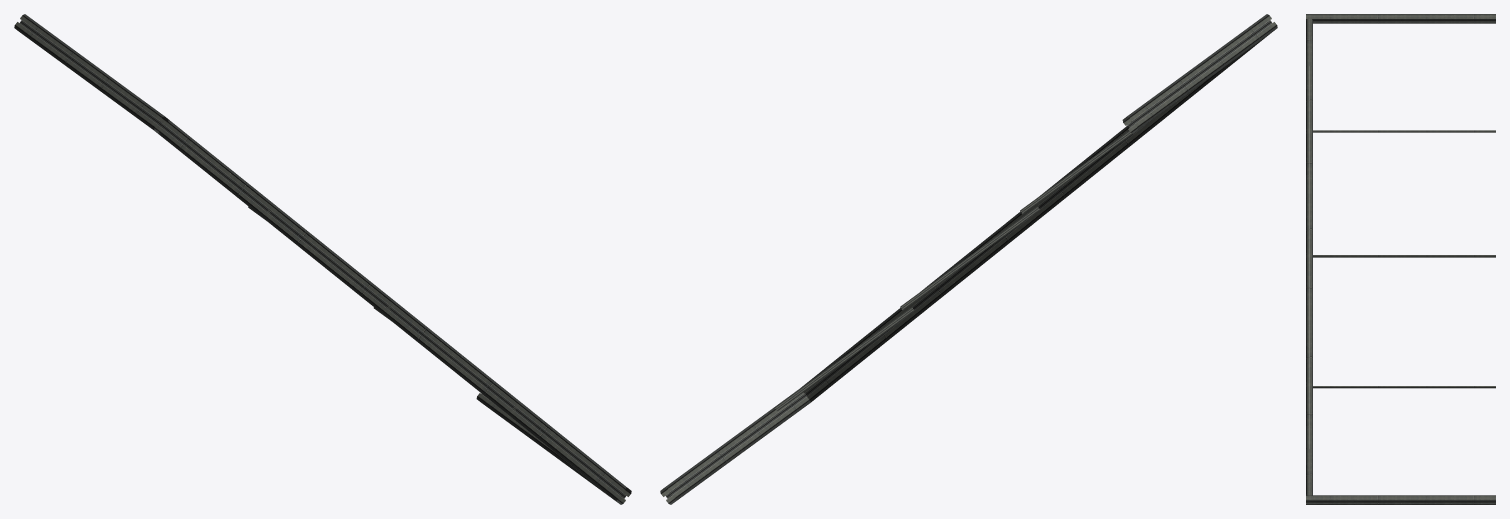
File: Dock_WindowFrame_Cap.FBX
3 renders of one model, left to right at view 1: azimuth 30°, elevation 25°; view 2: azimuth 150°, elevation 25°; view 3: azimuth 270°, elevation 25°, orthographic. The views are drawn at different scales.
Parts seen in each view (by area): view 1: Dock_WindowFrame_Cap; view 2: Dock_WindowFrame_Cap; view 3: Dock_WindowFrame_Cap.
Part boxes in pixels (x1=…): Dock_WindowFrame_Cap: x1=14, y1=14, x2=631, y2=504; Dock_WindowFrame_Cap: x1=660, y1=14, x2=1277, y2=504; Dock_WindowFrame_Cap: x1=1306, y1=14, x2=1495, y2=504.
Bounding box in the file's own units: 11.83 × 11.83 × 6.
